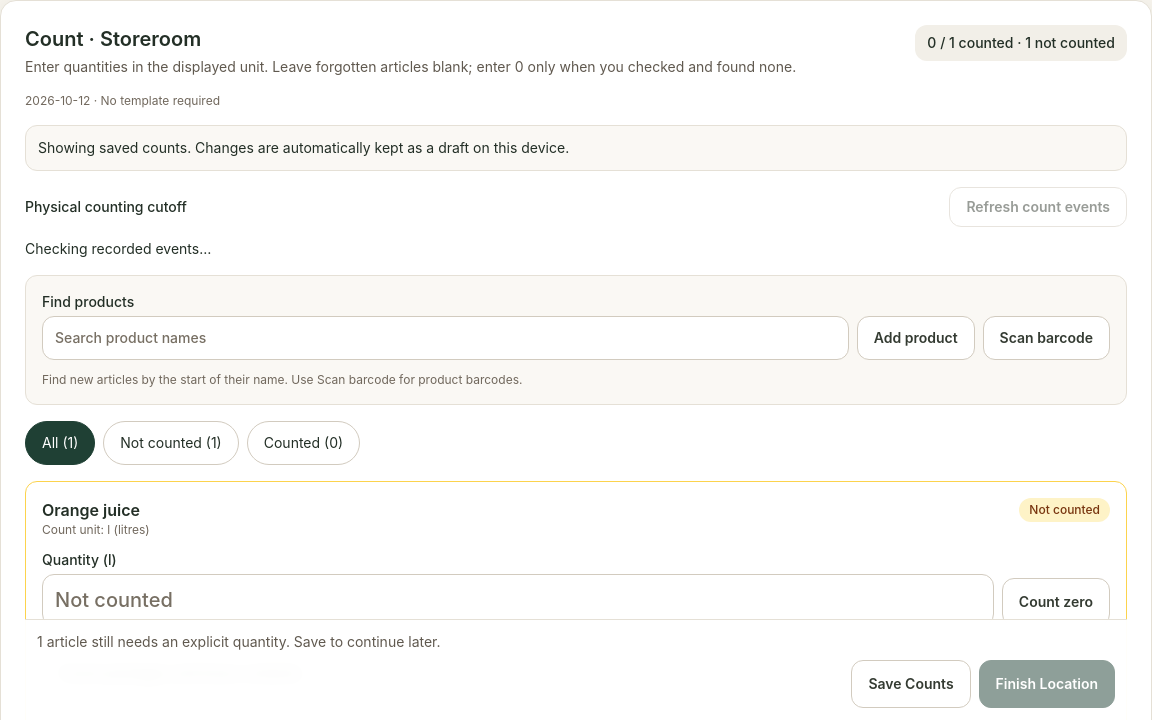
Test case: does not send a draft under a replacement Auth object before React rerenders
The image size is (1152, 720).
In the number field named "Count Orange juice": (518, 600) [42, 574, 994, 626], type "1"
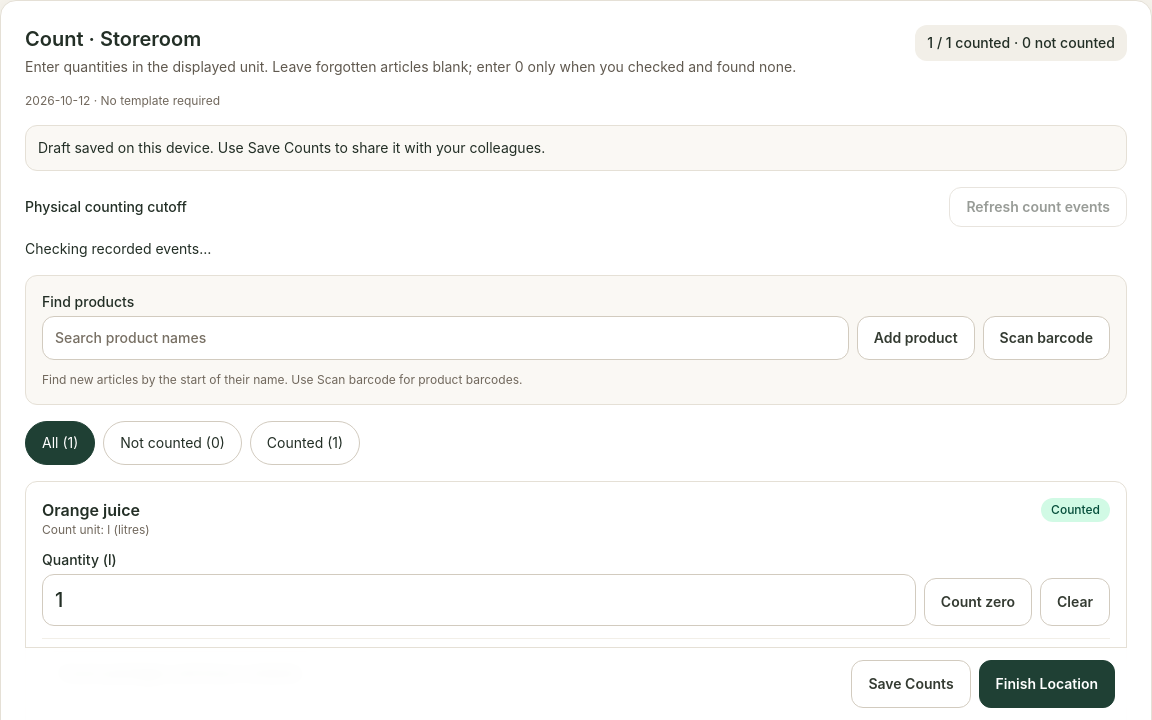
Click the button "Save Counts": click(911, 684) [851, 660, 971, 708]
(page scrolled)
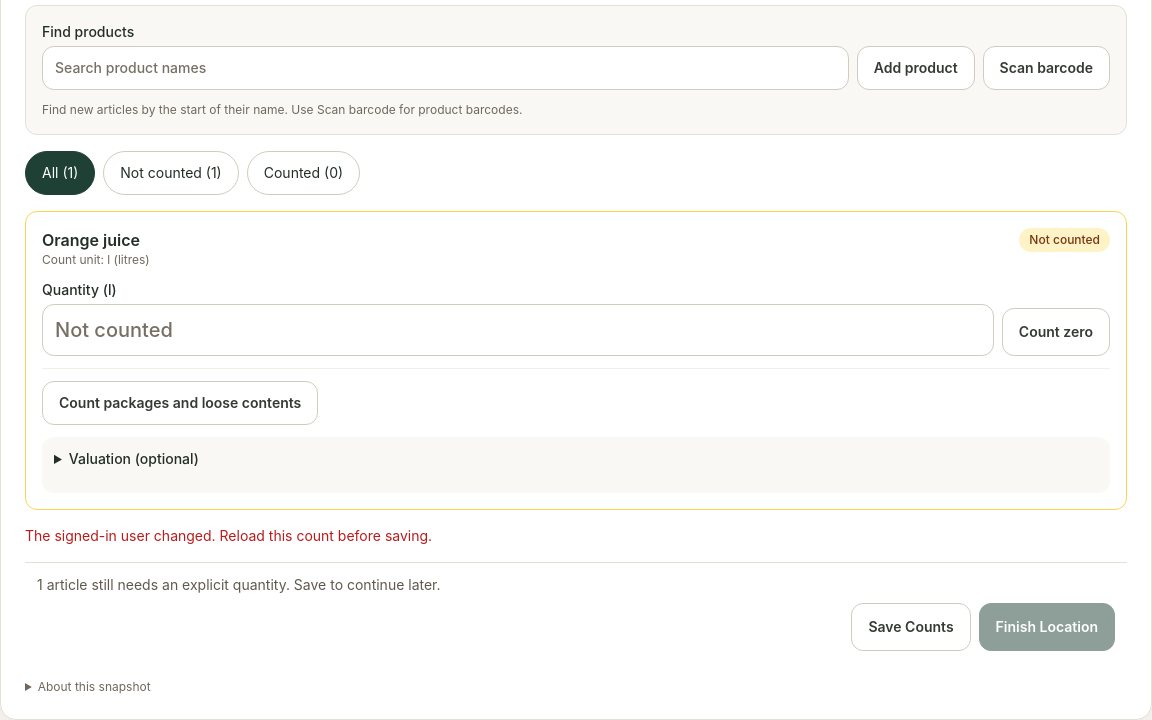
Result: the message shows "signed-in user changed" at [25, 527, 432, 544]
